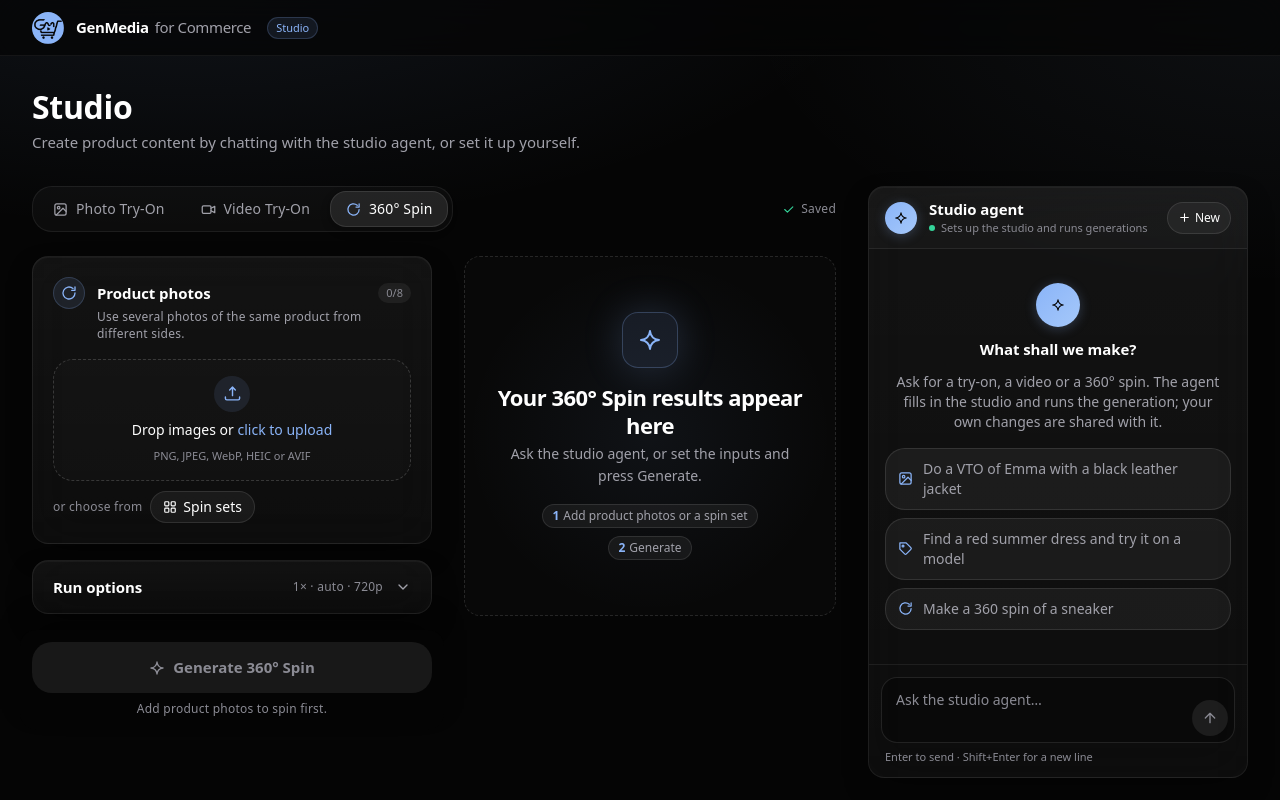
it: Studio page › offers only the spin sets, not single catalogue photos, in the spin picker
This screenshot has width=1280, height=800.
Check: the text "Use several photos of the same product from different sides." is shown, box [97, 308, 362, 342]
Check: the button "Products" is not shown
Click the button "Spin sets".
click(203, 507)  # box [150, 491, 255, 523]
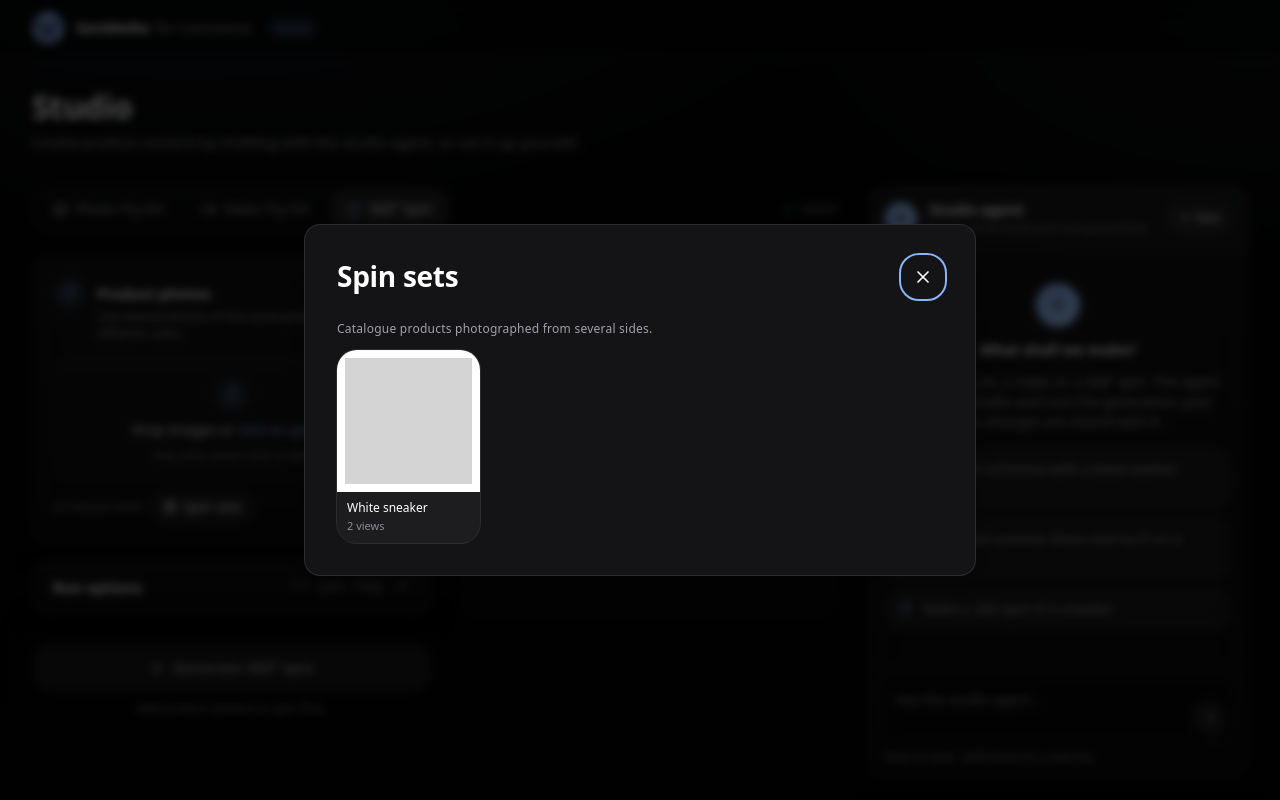
Click the button "White sneaker 2 views".
click(408, 446)  # box [337, 350, 480, 543]
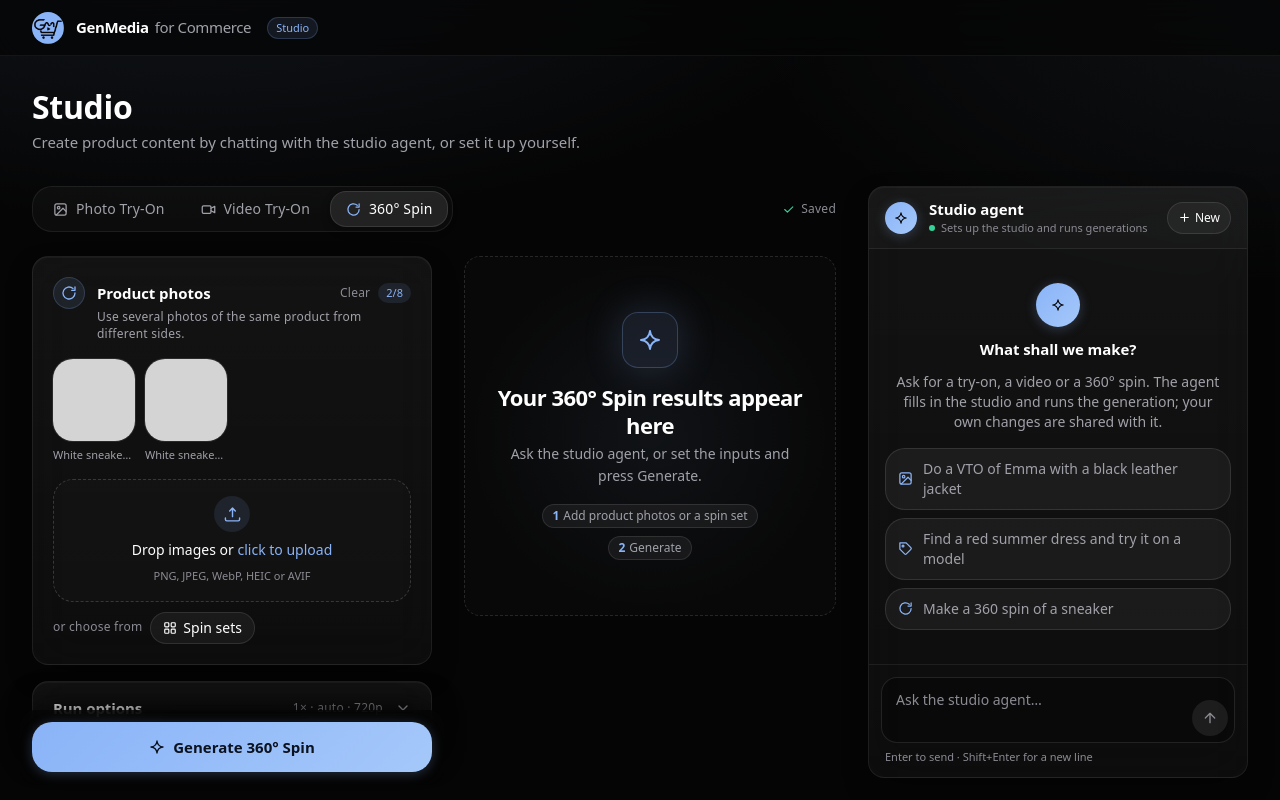
Check: the dialog is gone
